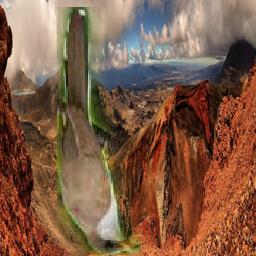Cuckoo: (57, 7, 141, 255)
